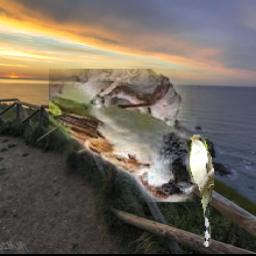Cuckoo: (189, 135, 213, 248)
Sparrow: (48, 69, 195, 202)
